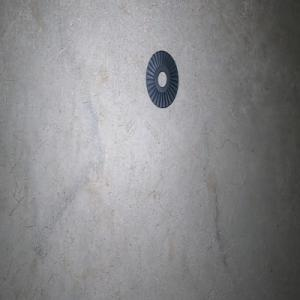Washer: (145, 50, 178, 108)
